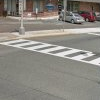crosswalk: (0, 38, 100, 65)
